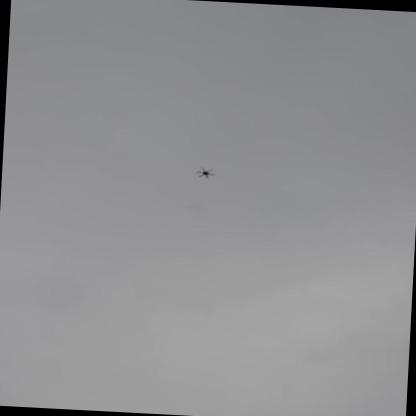drone: (192, 165, 217, 178)
